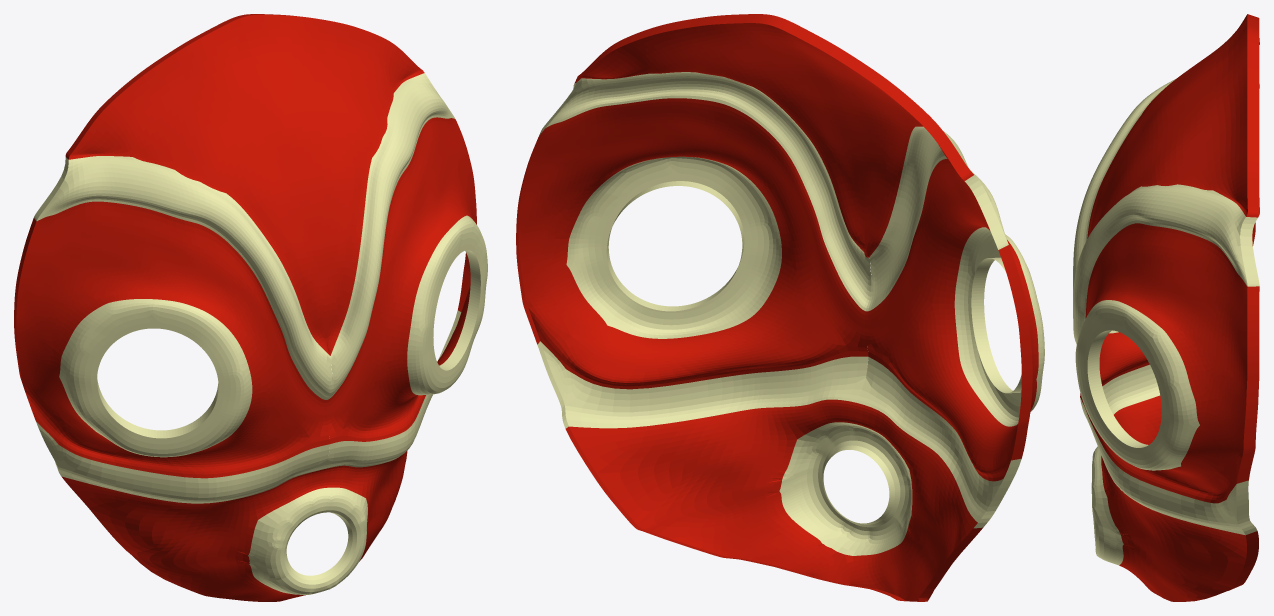
Rendered from mask.glb.
3 renders of one model, left to right at view 1: azimuth 30°, elevation 25°; view 2: azimuth 150°, elevation 25°; view 3: azimuth 270°, elevation 25°, orthographic. The views are drawn at different scales.
Parts seen in each view (by area): view 1: Plane; view 2: Plane; view 3: Plane.
Boxes of the visible parts, x1,y1,x2,y2 form: Plane: (14,14,487,601); Plane: (516,14,1044,601); Plane: (1073,14,1259,601).
Size of the model in its own units: 1.63 by 1.84 by 0.5725.
